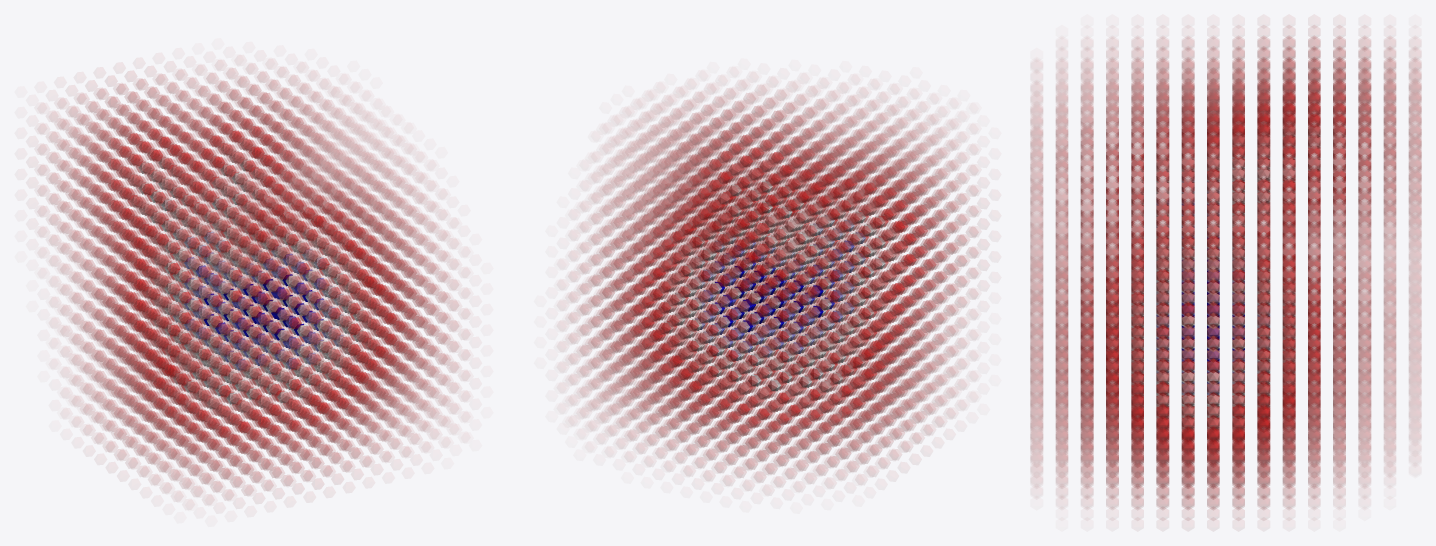
Rendered from sdf.glb.
3 views of the same model, side by side, from view 1: azimuth 30°, elevation 25°; view 2: azimuth 150°, elevation 25°; view 3: azimuth 270°, elevation 25° (orthographic). The views are drawn at different scales.
Parts seen in each view (by area): view 1: world; view 2: world; view 3: world.
Boxes of the visible parts, left/top/right/bottom form: world: left=38, top=68, right=458, bottom=499; world: left=568, top=85, right=978, bottom=483; world: left=1030, top=25, right=1421, bottom=520.
Size of the model in its own units: 2.07 by 2.07 by 2.07.
